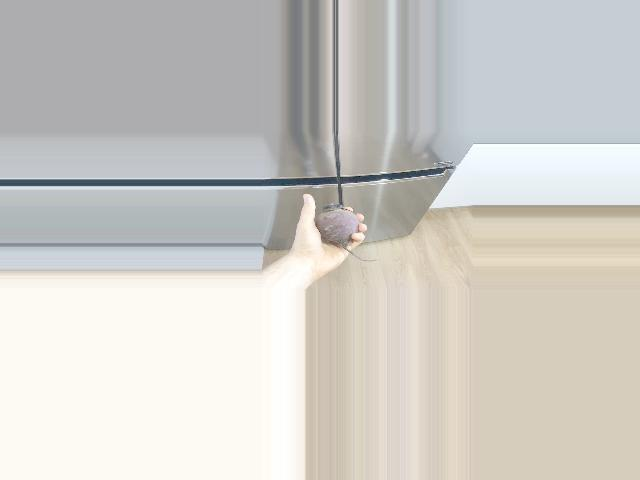beet: (315, 203, 378, 261)
